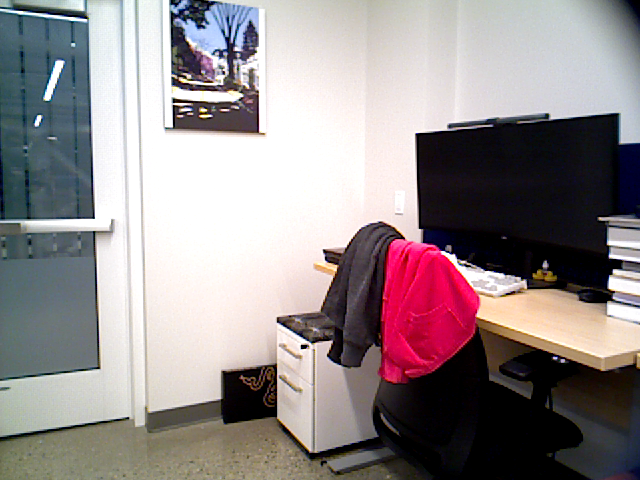painting3: (163, 1, 267, 132)
